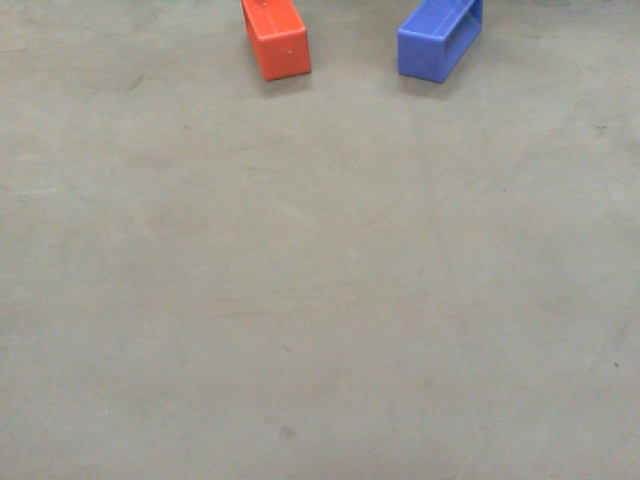BlueSample: (395, 1, 491, 86)
RedSample: (238, 1, 314, 84)
